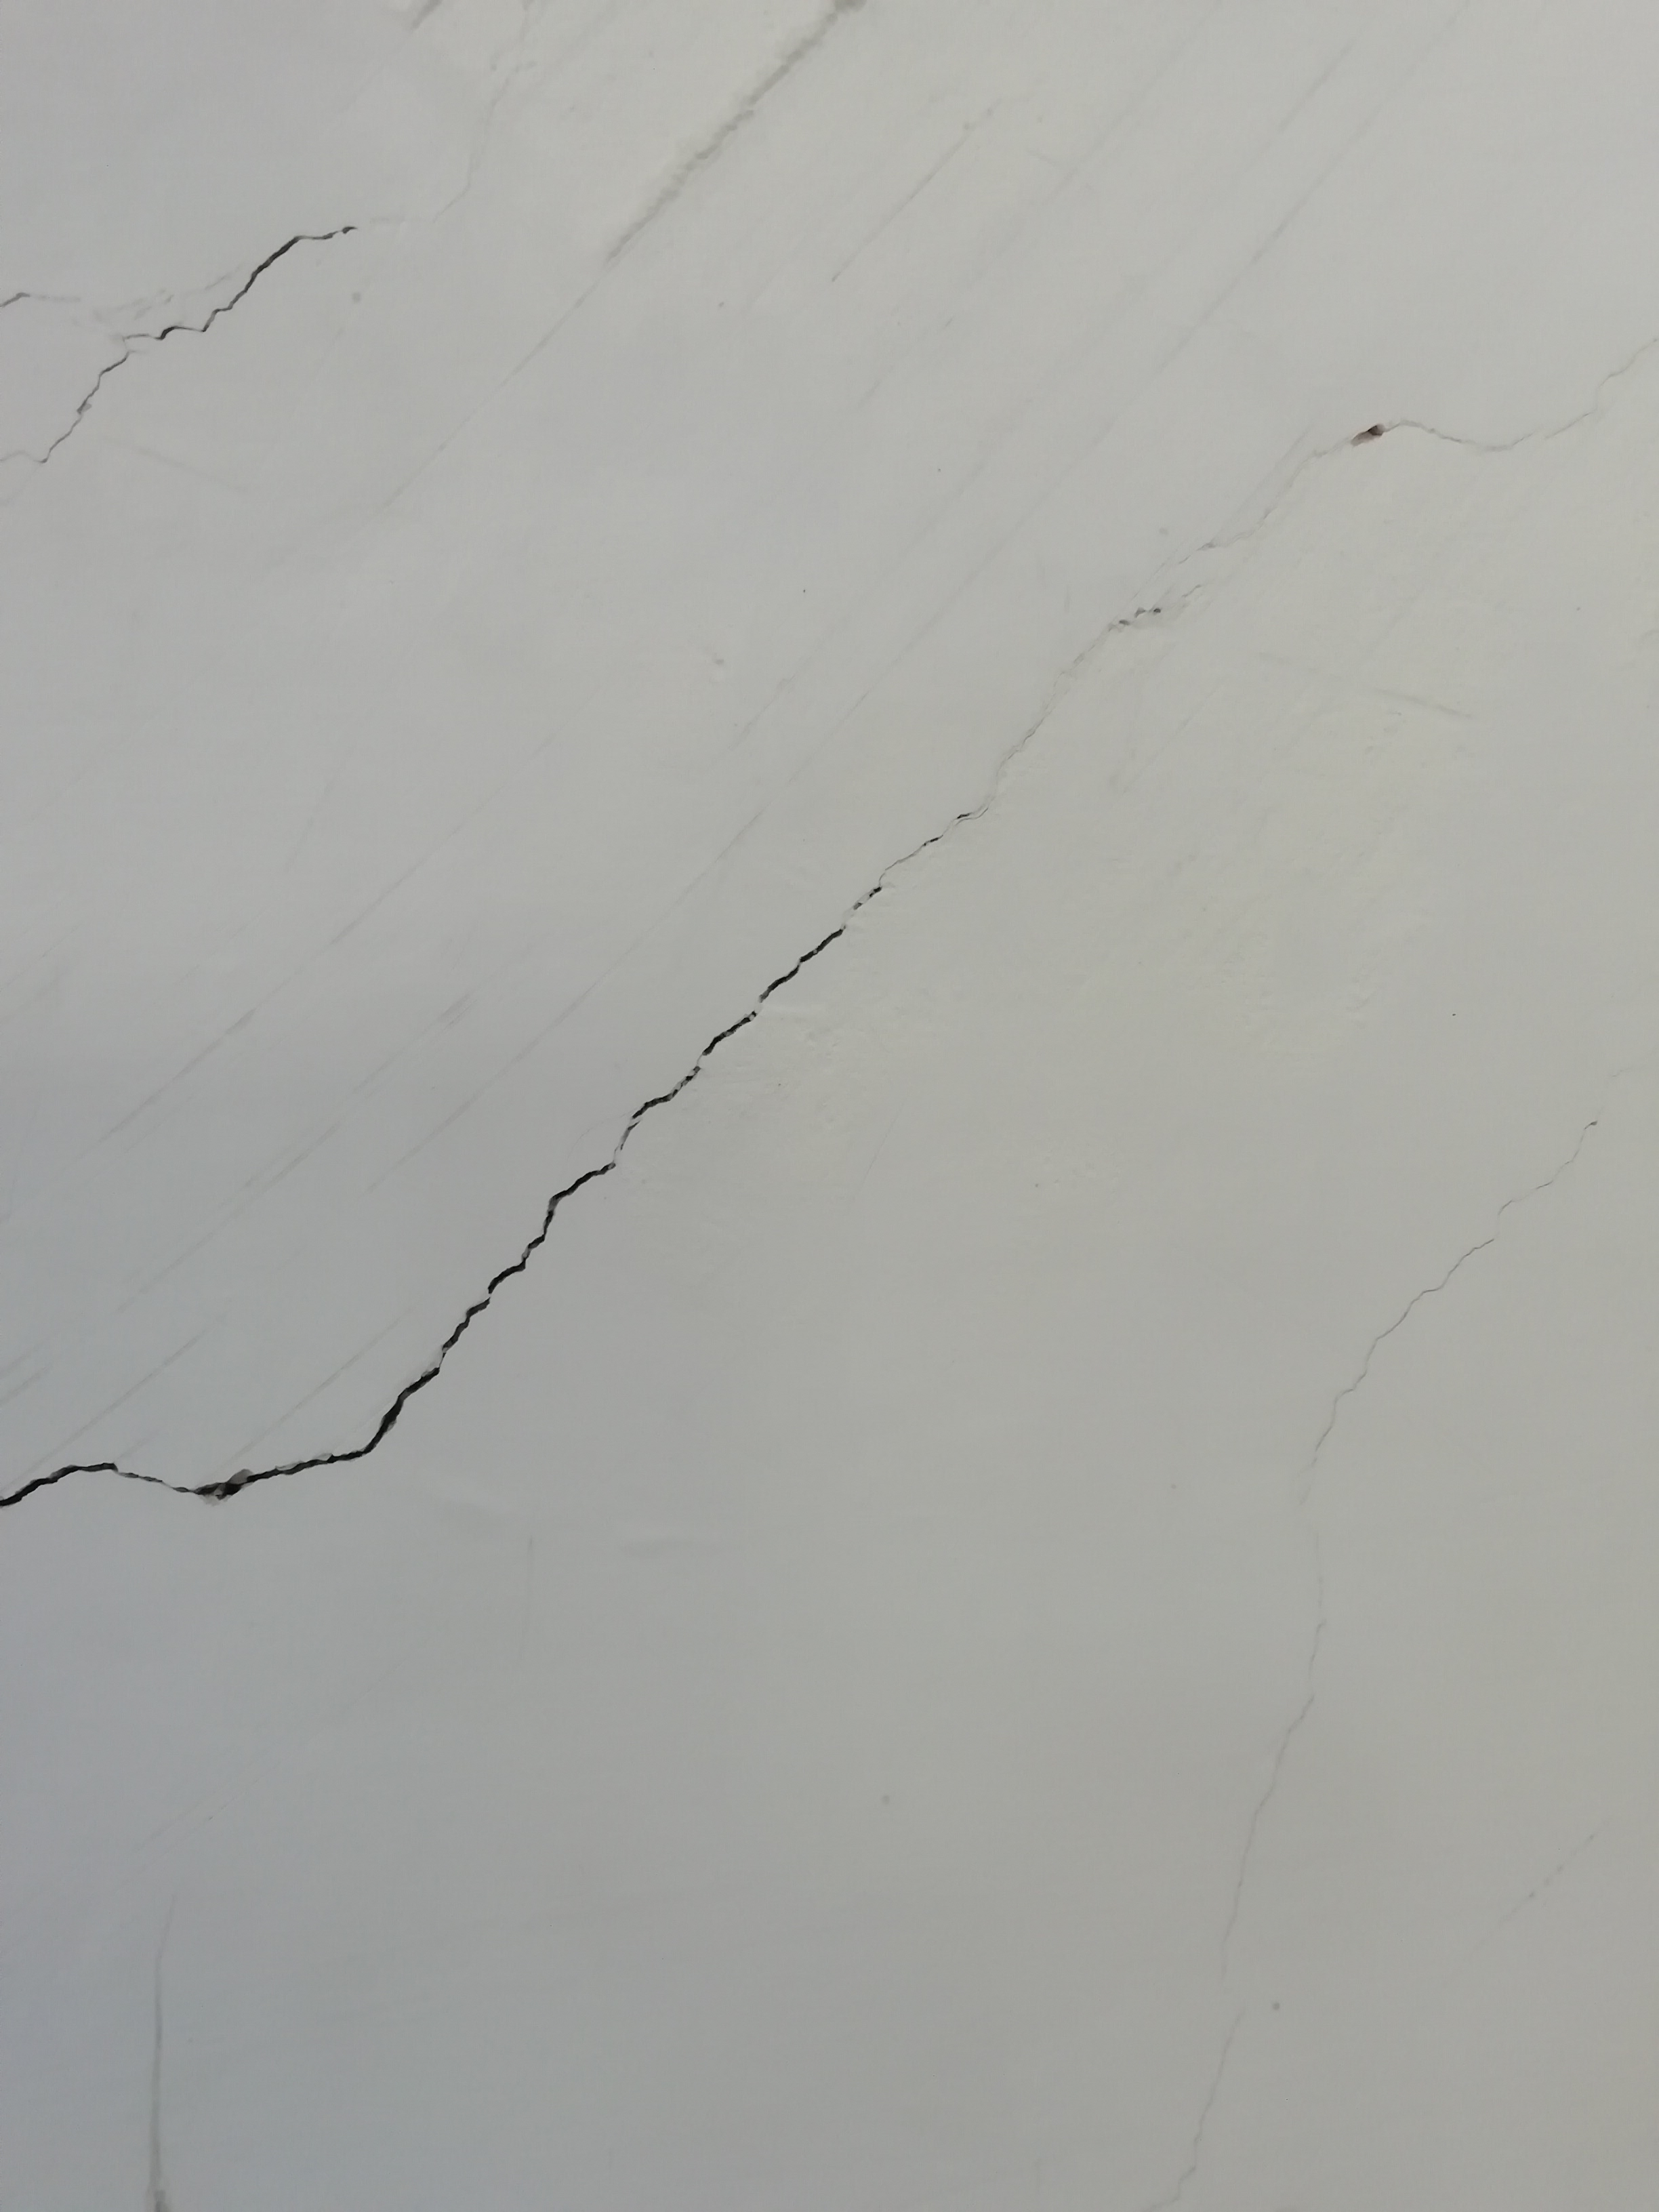Crack: (3, 1165, 608, 1519), (610, 907, 863, 1157), (171, 214, 349, 340)
